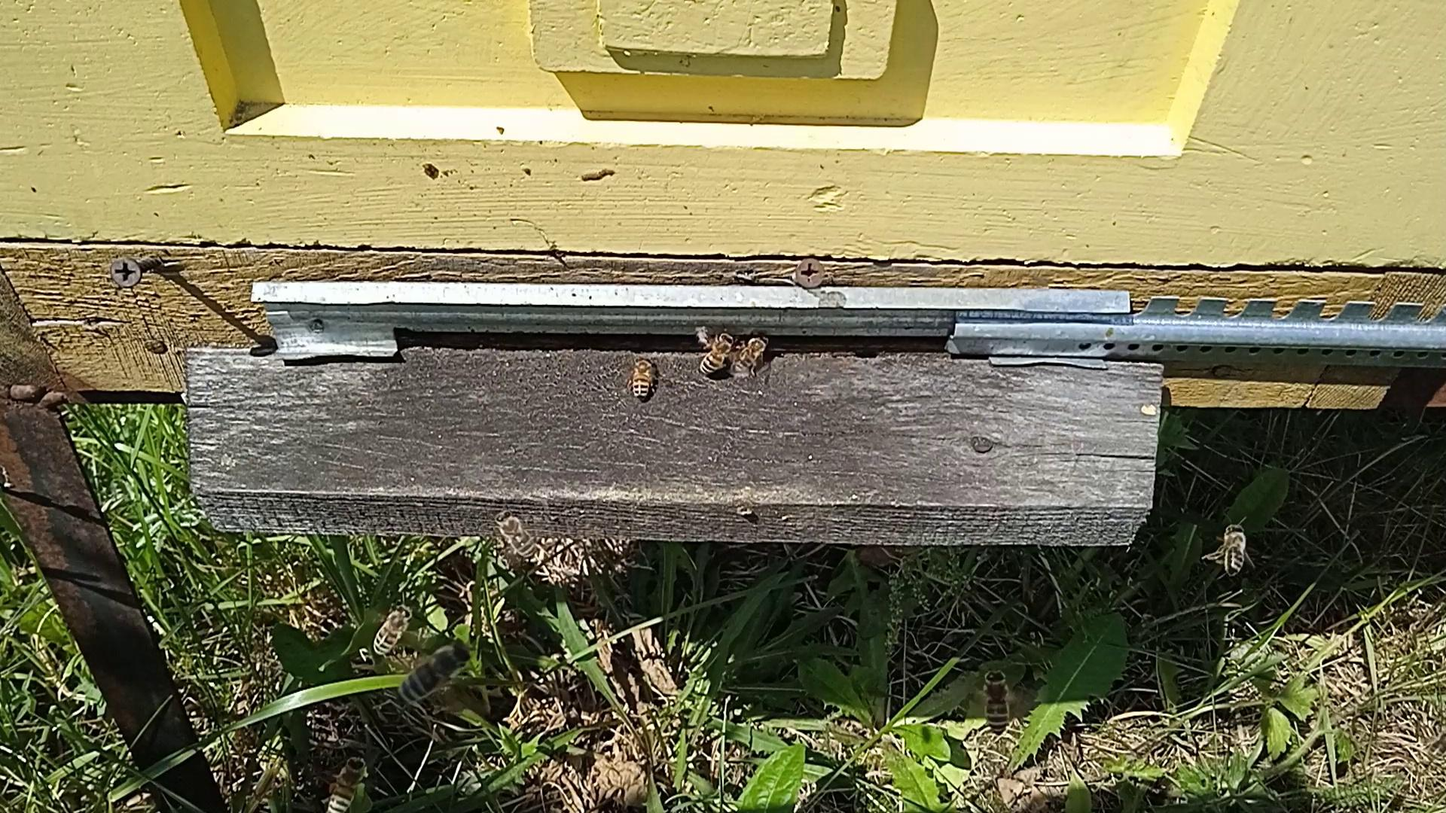worker-bee: (398, 642, 474, 703), (326, 755, 369, 813), (981, 669, 1013, 737), (494, 509, 537, 559), (373, 603, 413, 656), (699, 330, 736, 374), (627, 355, 659, 402), (1222, 523, 1247, 577), (738, 332, 771, 370)
